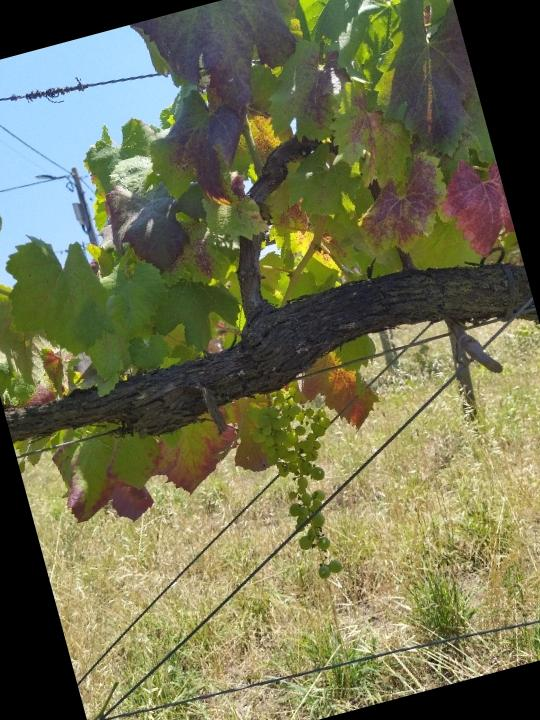grape: (241, 376, 375, 594)
